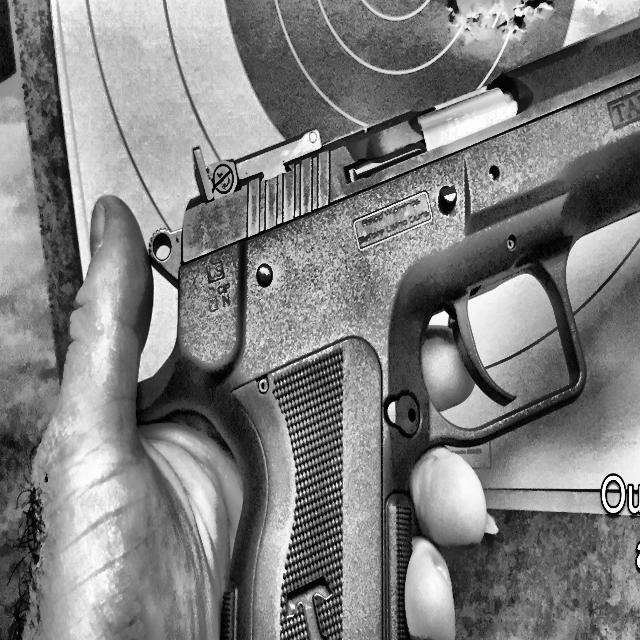Tanfoglio: (148, 0, 640, 640)
